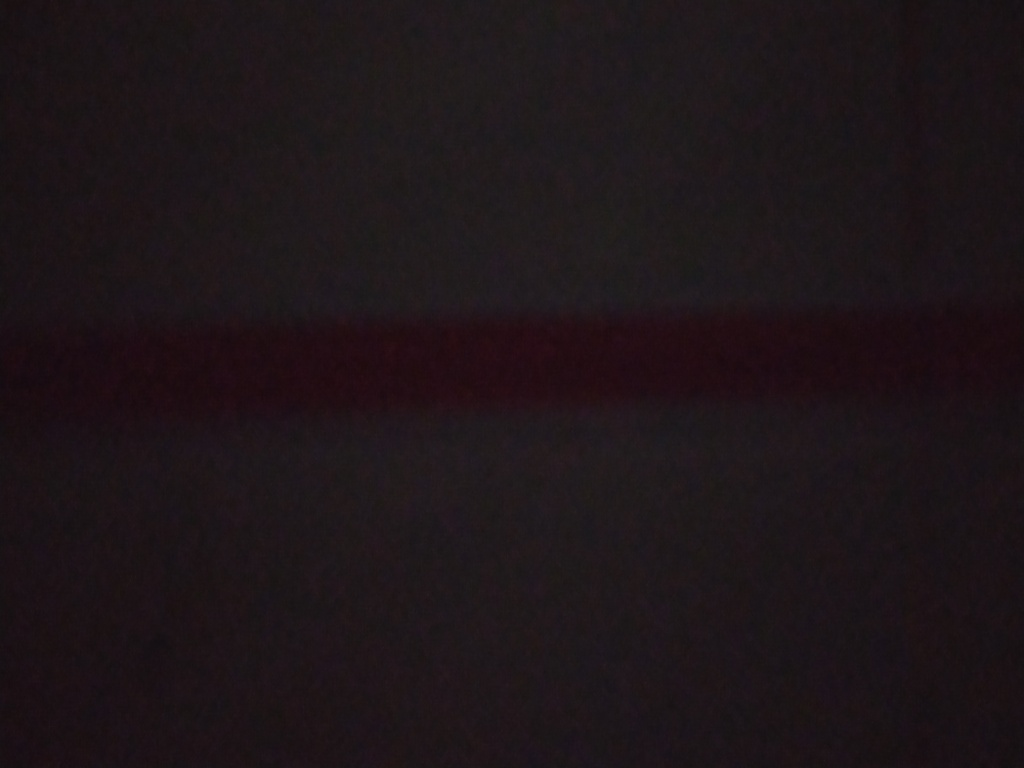reta: (4, 273, 1023, 465)
